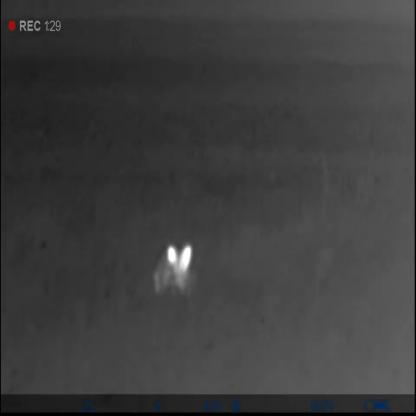rehkitze: (149, 245, 196, 298)
